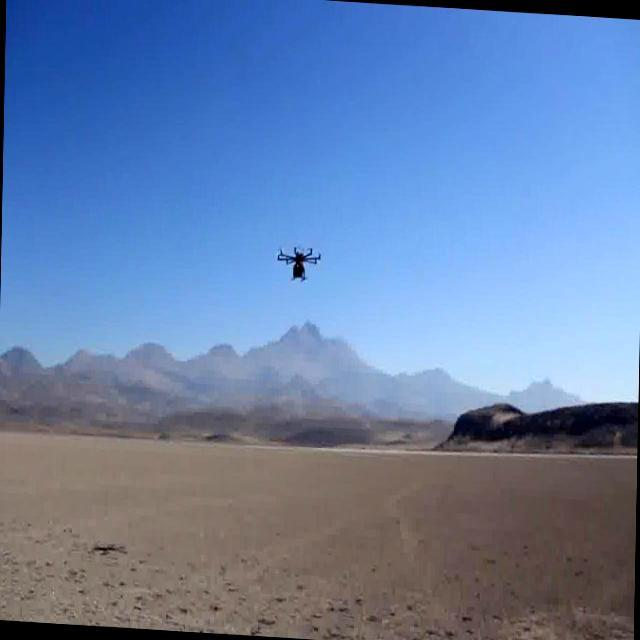drone: (274, 241, 326, 286)
